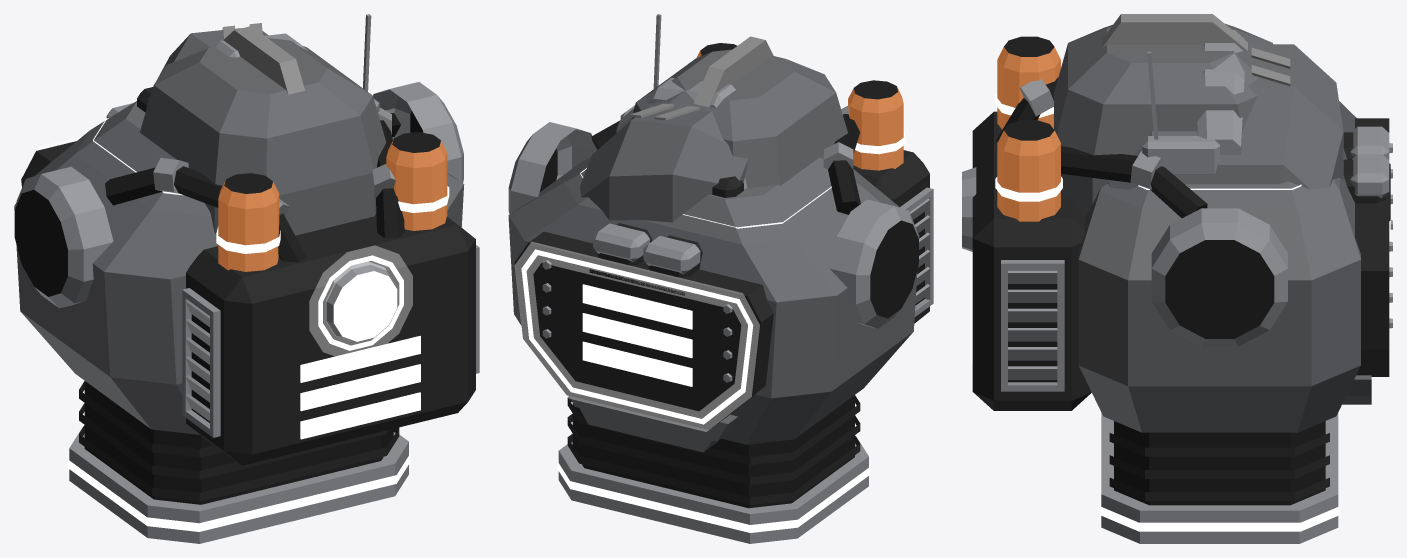
The model's file is max.glb.
3 views of the same model, side by side, from view 1: azimuth 30°, elevation 25°; view 2: azimuth 150°, elevation 25°; view 3: azimuth 270°, elevation 25° (orthographic). The views are drawn at different scales.
Parts seen in each view (by area): view 1: max_torso, max_helmet, max_pauldron; view 2: max_torso, max_helmet, max_pauldron, max_boot; view 3: max_torso, max_helmet, max_pauldron, max_boot.
Boxes of the visible parts, x1,y1,x2,y2 form: max_torso: (14,82,479,543); max_helmet: (137,14,386,235); max_pauldron: (147,23,307,100); max_torso: (508,43,933,543); max_helmet: (620,14,847,197); max_pauldron: (580,78,748,222); max_boot: (589,223,702,296); max_torso: (962,36,1392,543); max_helmet: (1054,14,1272,216); max_pauldron: (1108,30,1343,189); max_boot: (1343,126,1390,220).
Size of the model in its own units: 0.66 by 0.7402 by 0.61.
